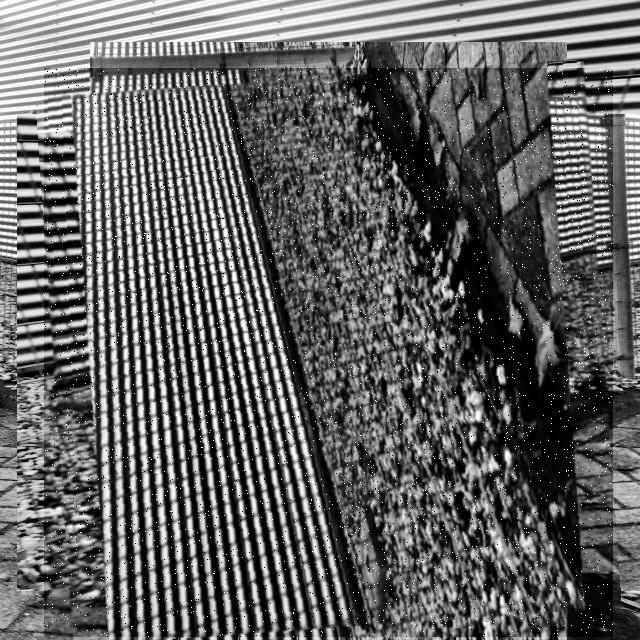fences: (44, 68, 613, 637)
